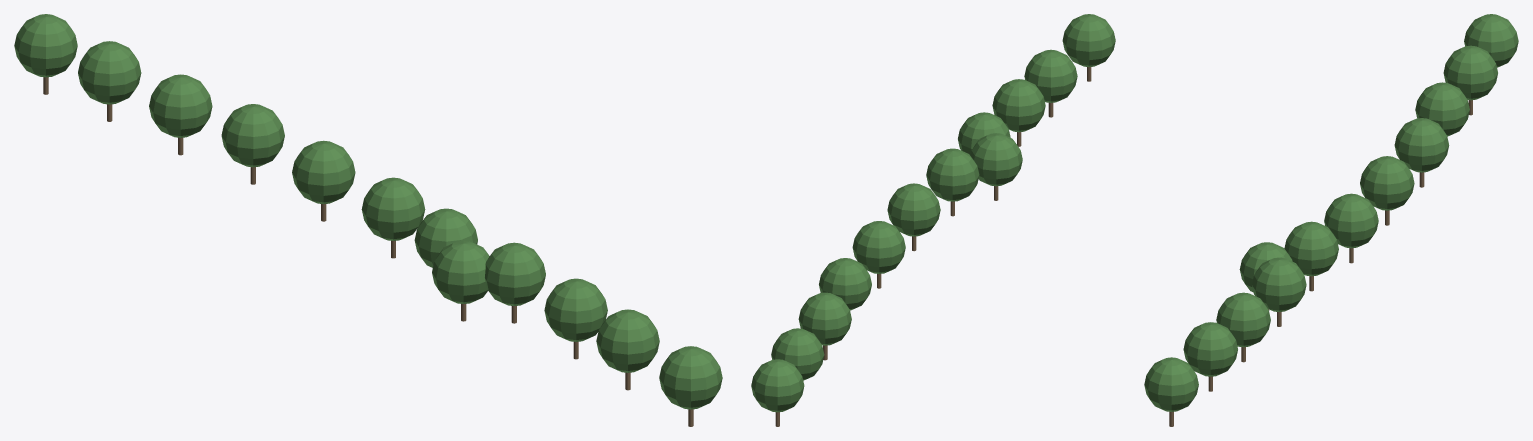
Rendered from trees-661-12976-275f1e9d5b22.glb.
The picture shows the model from 3 angles, left to right: view 1: azimuth 30°, elevation 25°; view 2: azimuth 150°, elevation 25°; view 3: azimuth 330°, elevation 25°; orthographic projection. The views are drawn at different scales.
Bounding box in the file's own units: 41.81 × 17.34 × 204.
